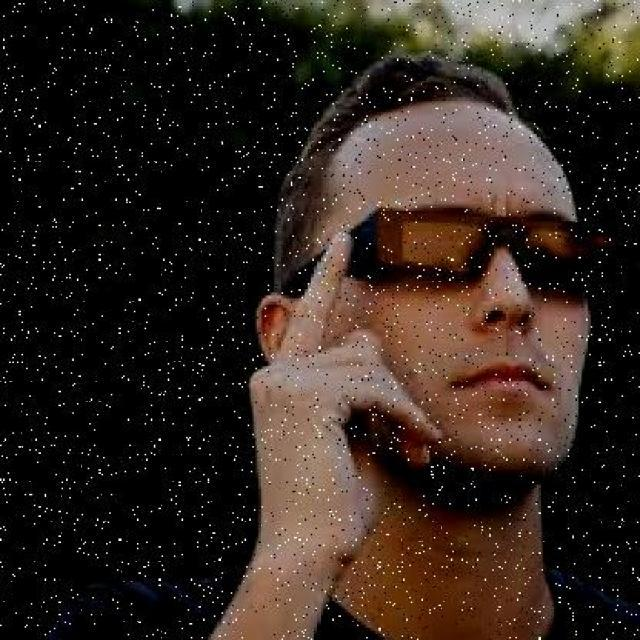glasses: (341, 189, 640, 301)
